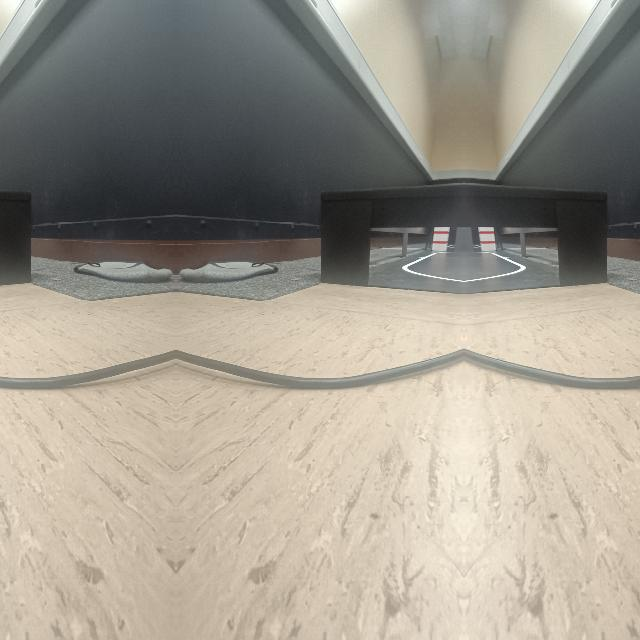obstacle: (317, 184, 463, 286), (464, 184, 610, 286), (185, 349, 463, 391), (464, 349, 640, 391), (0, 349, 165, 391), (0, 184, 33, 286)
